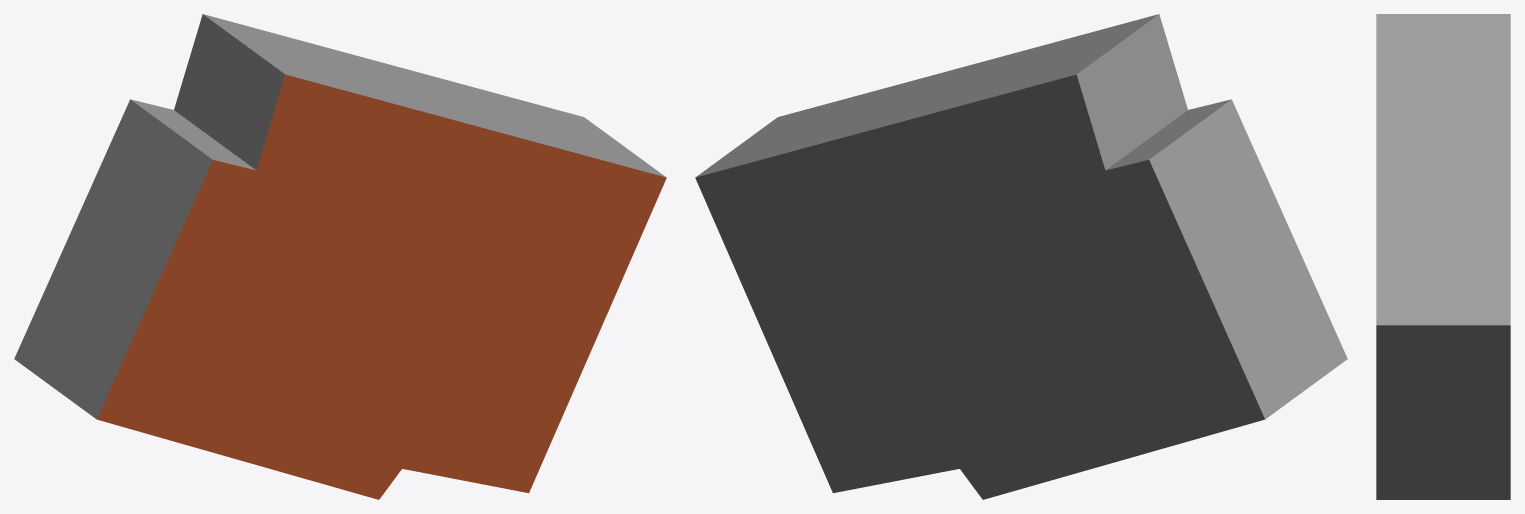
The model's file is construction_4518_assumed_A_Casa_h6m.obj.
3 views of the same model, side by side, from view 1: azimuth 30°, elevation 25°; view 2: azimuth 150°, elevation 25°; view 3: azimuth 270°, elevation 25° (orthographic). The views are drawn at different scales.
Visible parts, largest first — view 1: construction_4518_assumed_A_Casa; view 2: construction_4518_assumed_A_Casa; view 3: construction_4518_assumed_A_Casa.
Part boxes in pixels (x1=…): construction_4518_assumed_A_Casa: x1=14, y1=14, x2=666, y2=499; construction_4518_assumed_A_Casa: x1=695, y1=14, x2=1347, y2=499; construction_4518_assumed_A_Casa: x1=1376, y1=14, x2=1510, y2=499.
Size of the model in its own units: 23.9 by 19.16 by 6.
